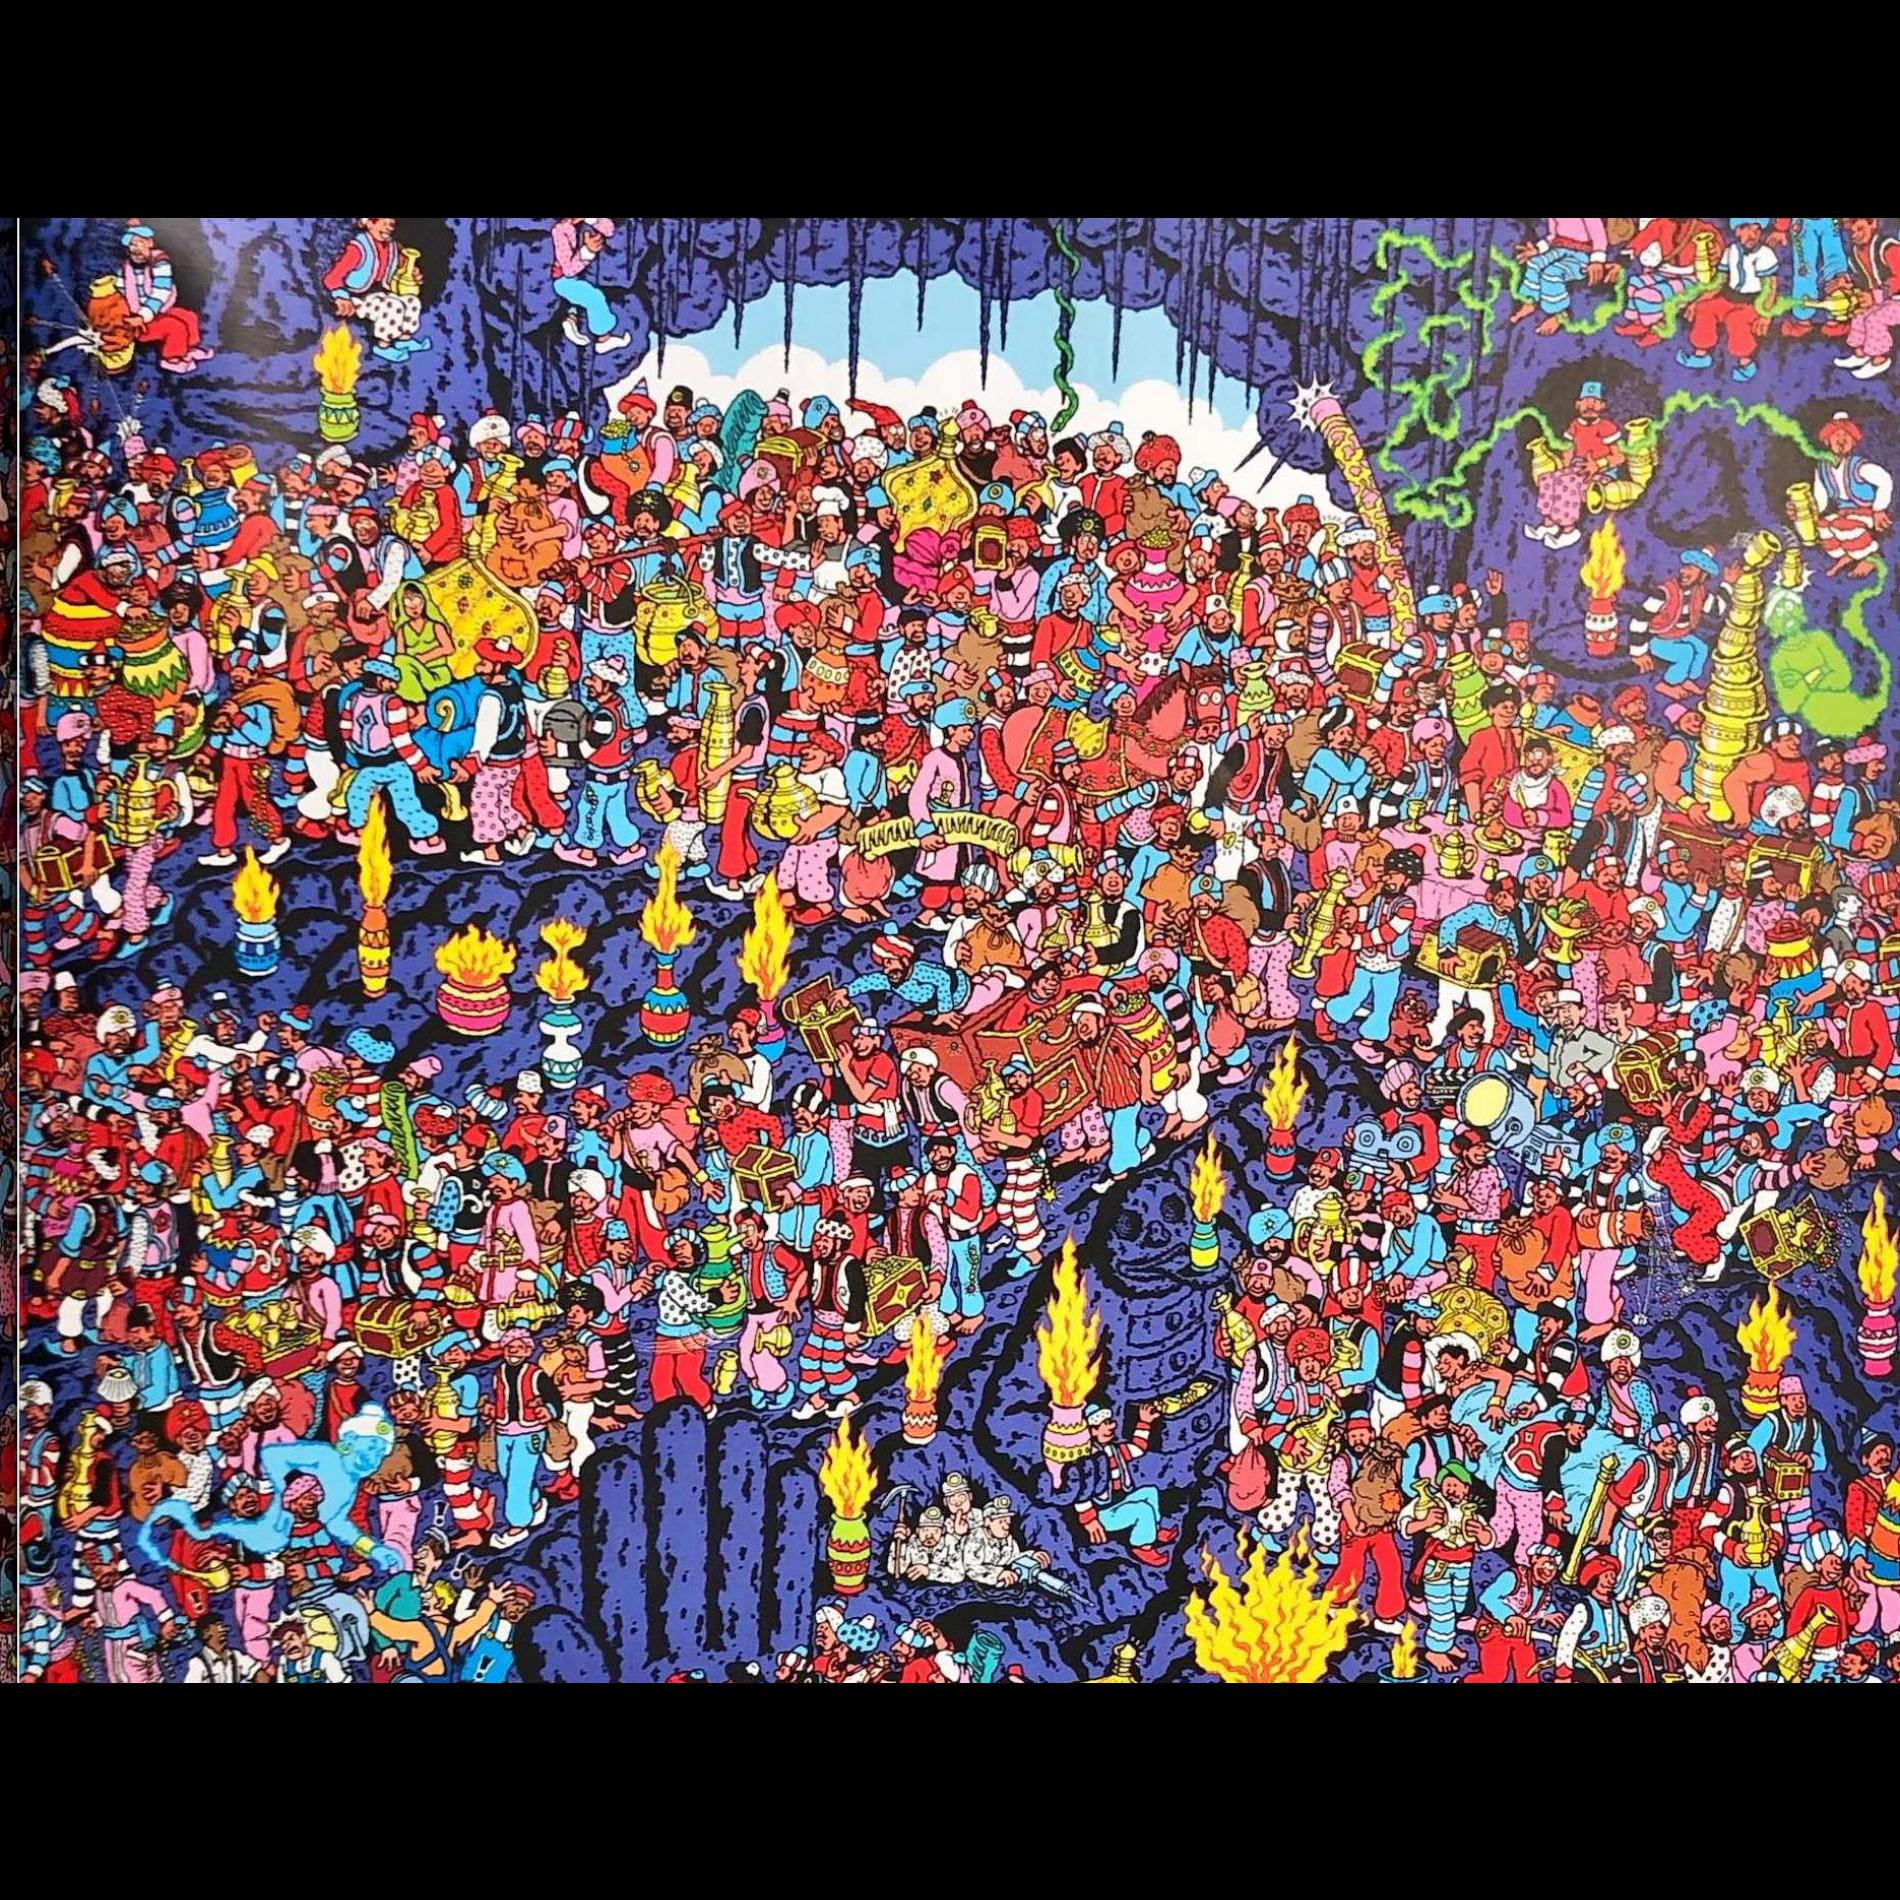Odlaw: (1634, 1512, 1676, 1576)
Waldo: (865, 1662, 905, 1681)
Wilma: (1402, 659, 1441, 719)
